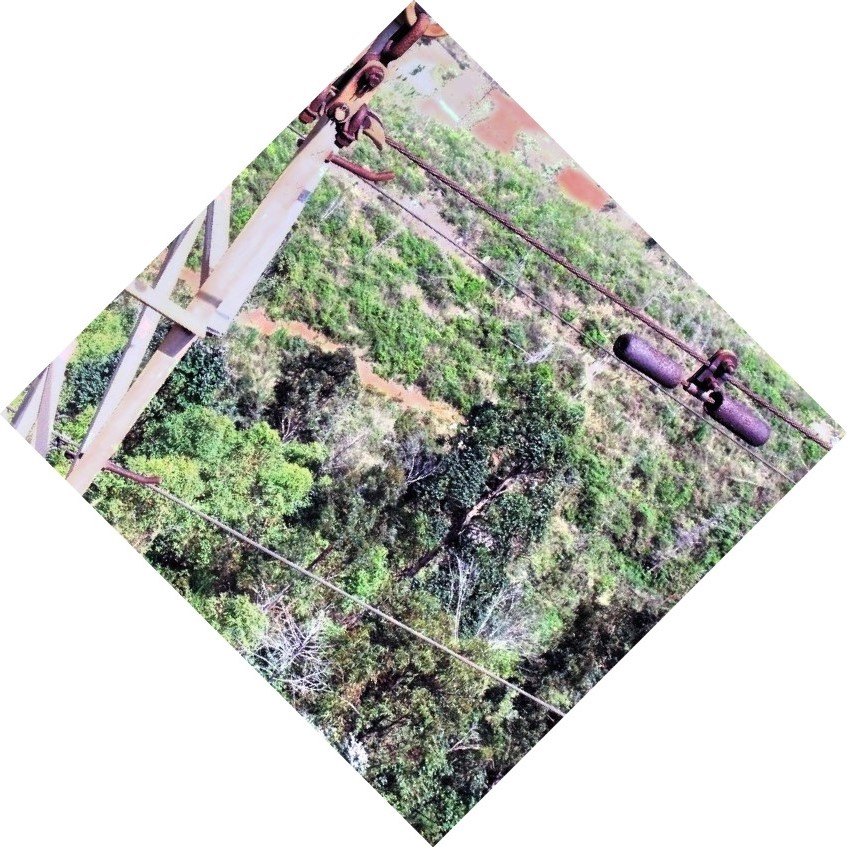Shockproof hammer: (604, 297, 783, 459)
